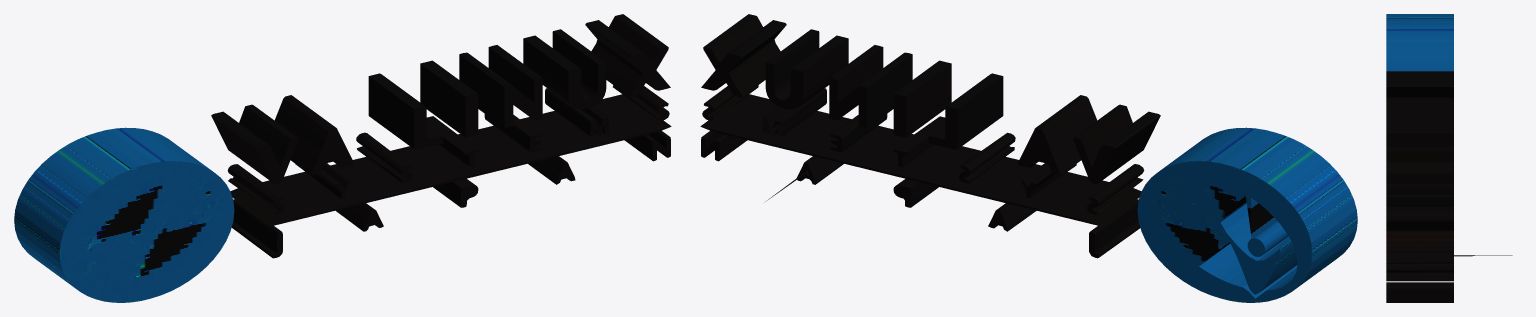
Rendered from va-linux-systems-japan-k-k.glb.
3 renders of one model, left to right at view 1: azimuth 30°, elevation 25°; view 2: azimuth 150°, elevation 25°; view 3: azimuth 270°, elevation 25°, orthographic. The views are drawn at different scales.
Visible parts, largest first — view 1: Curve; view 2: Curve; view 3: Curve.
Boxes of the visible parts, x1,y1,x2,y2 form: Curve: (14, 14, 671, 302); Curve: (700, 14, 1357, 302); Curve: (1386, 14, 1512, 302).
Size of the model in its own units: 0.0389 by 0.00821 by 0.01.
Materials: 1 (1 with a texture image).
